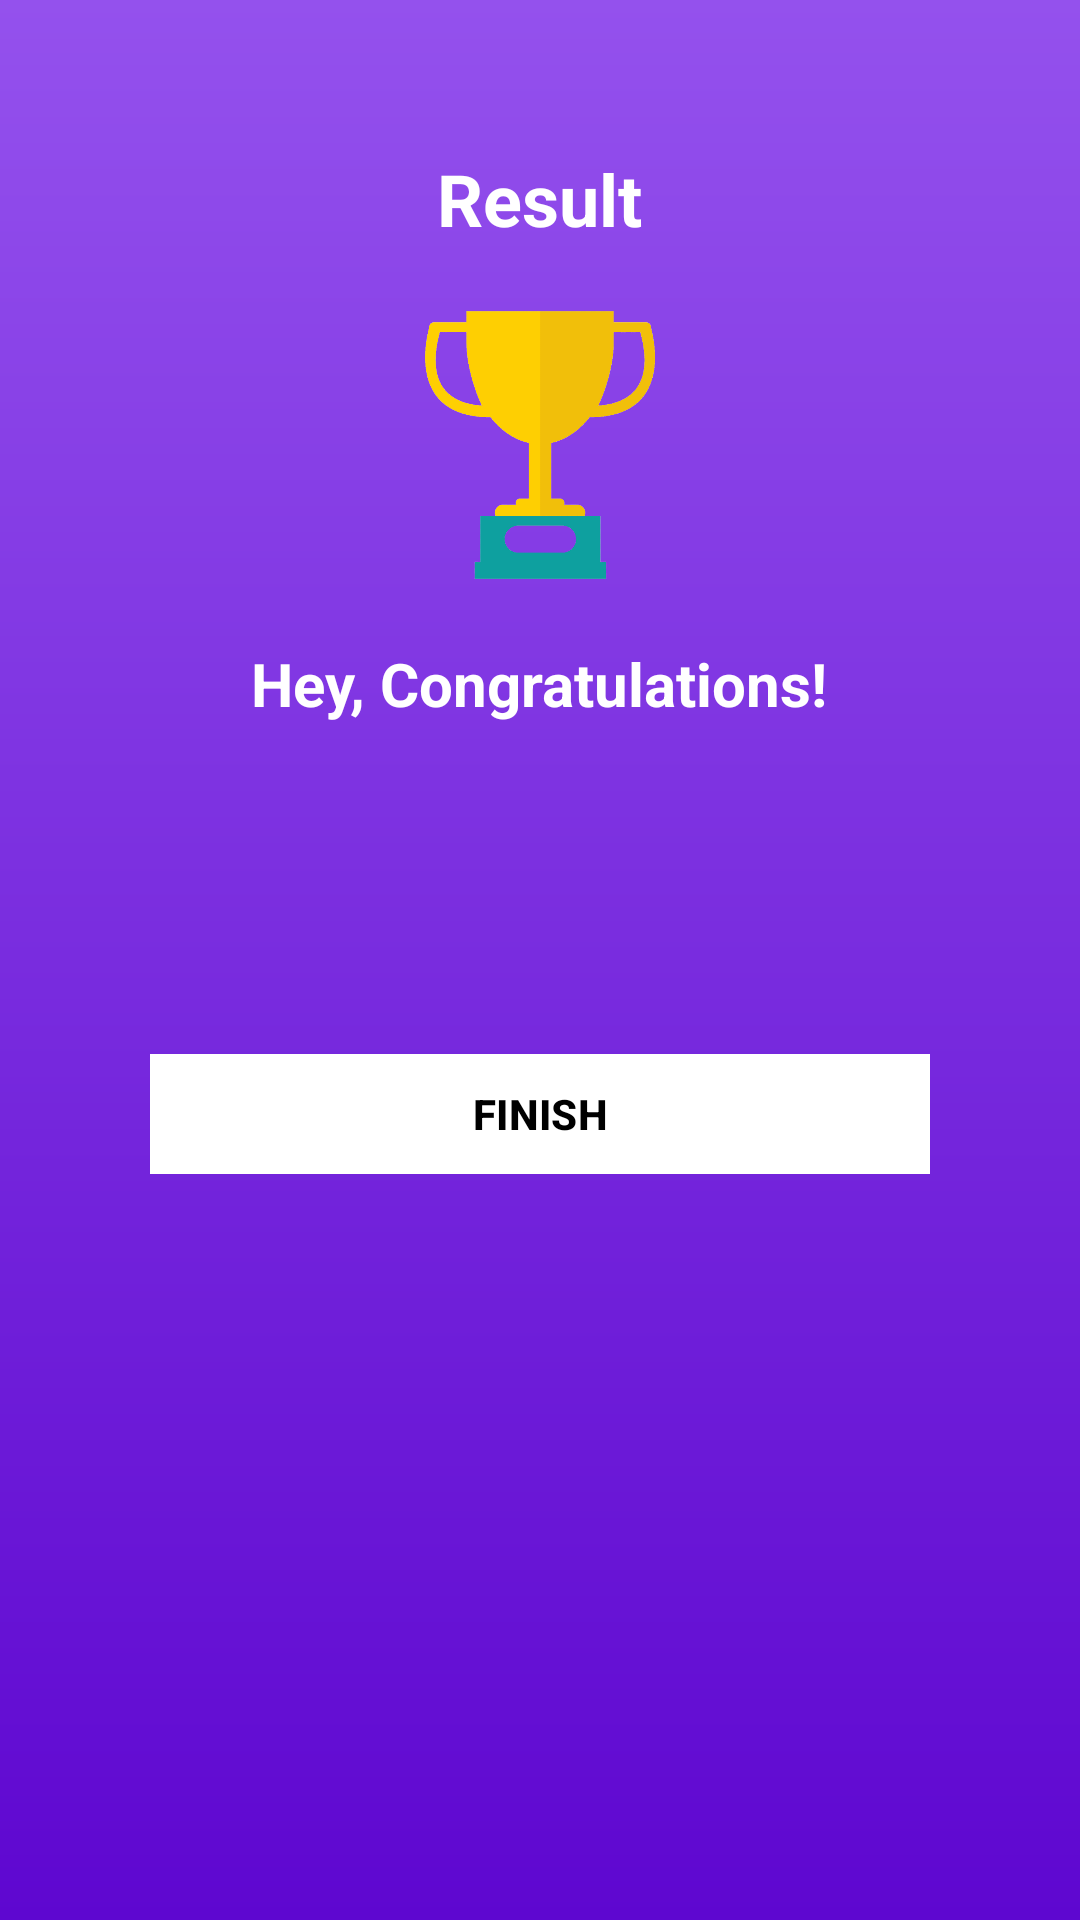

Named icons in this screenshot (1080x1920) and their centers, [x,y]:
trophyfinal: [540,445]
